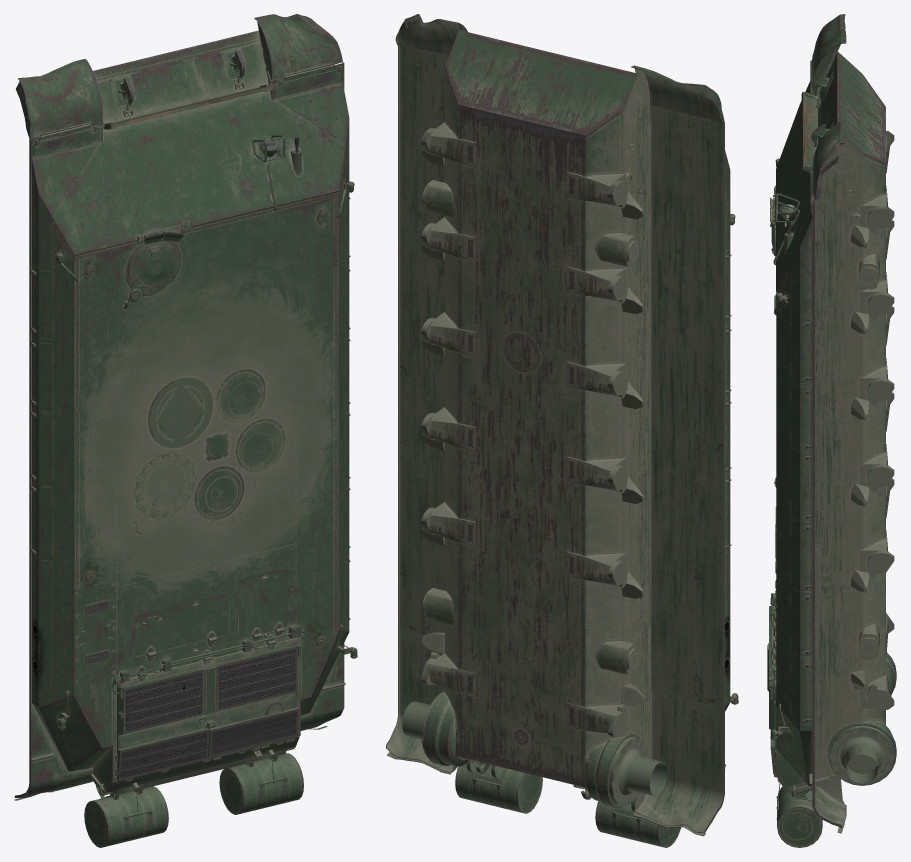
File: Hull.glb
The picture shows the model from 3 angles, left to right: view 1: azimuth 30°, elevation 25°; view 2: azimuth 150°, elevation 25°; view 3: azimuth 270°, elevation 25°; orthographic projection. The views are drawn at different scales.
Parts seen in each view (by area): view 1: set_0_group_0; view 2: set_0_group_0; view 3: set_0_group_0.
Boxes of the visible parts, bbox=[...] form: set_0_group_0: bbox=[14, 14, 357, 847]; set_0_group_0: bbox=[386, 14, 738, 847]; set_0_group_0: bbox=[767, 14, 896, 847].
Size of the model in its own units: 3.4 by 7.87 by 1.28.
Materials: 1 (1 with a texture image).
